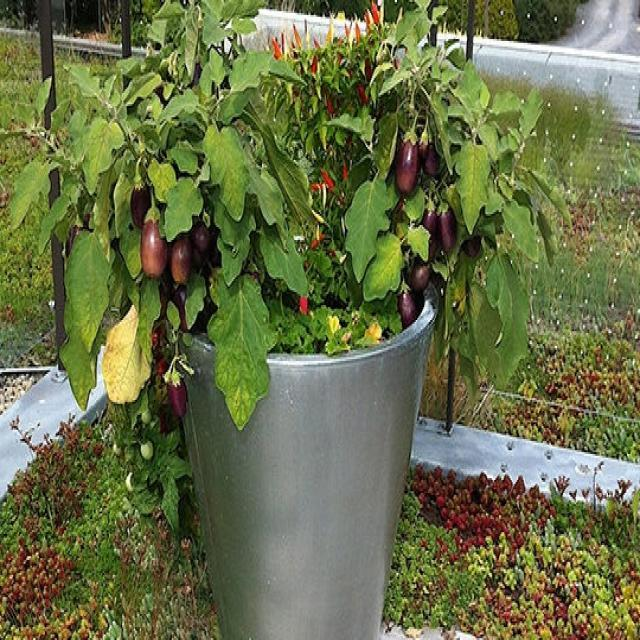brinjal: (10, 0, 315, 433), (346, 2, 553, 382), (354, 210, 367, 220)
chilli: (270, 20, 399, 353)
